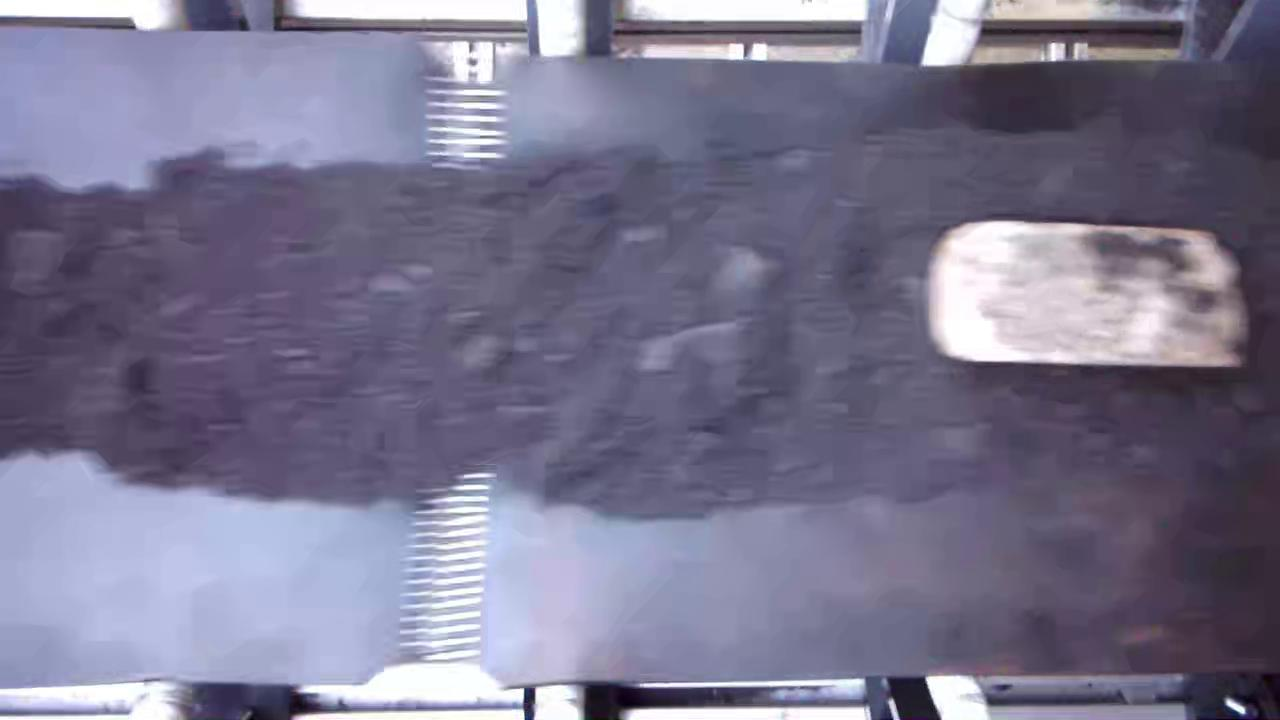conveyor: (6, 67, 1277, 663)
